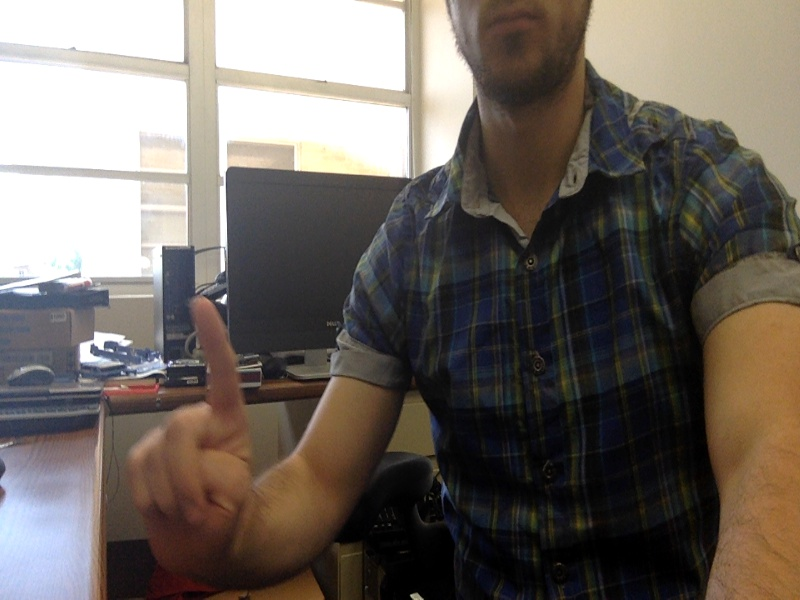1-hand: (125, 300, 259, 569)
